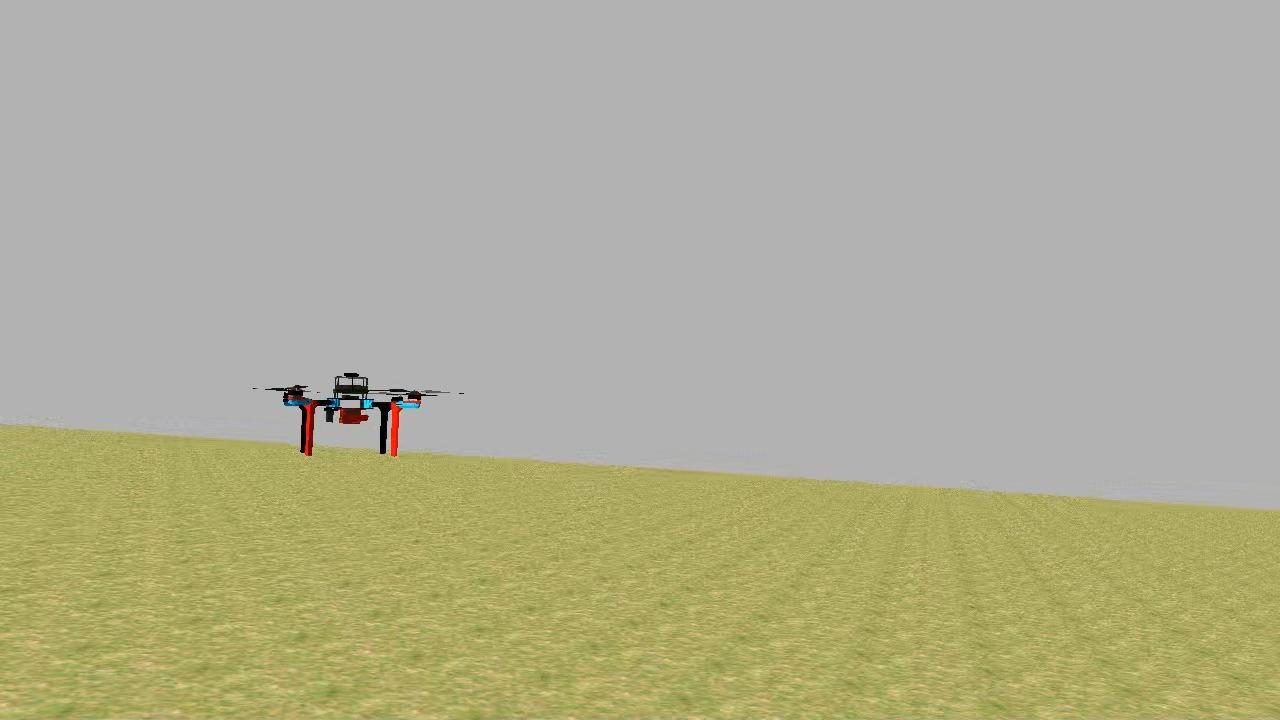UAV: (276, 372, 428, 460)
